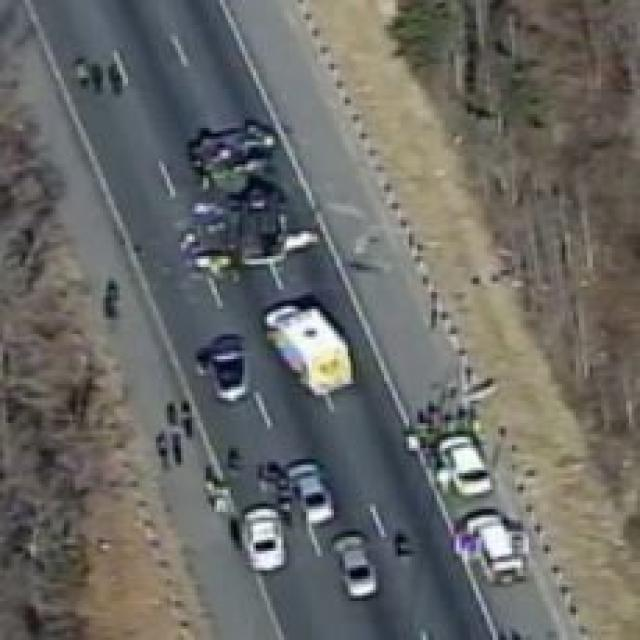traffic_incident: (228, 175, 295, 284), (181, 112, 273, 186)
